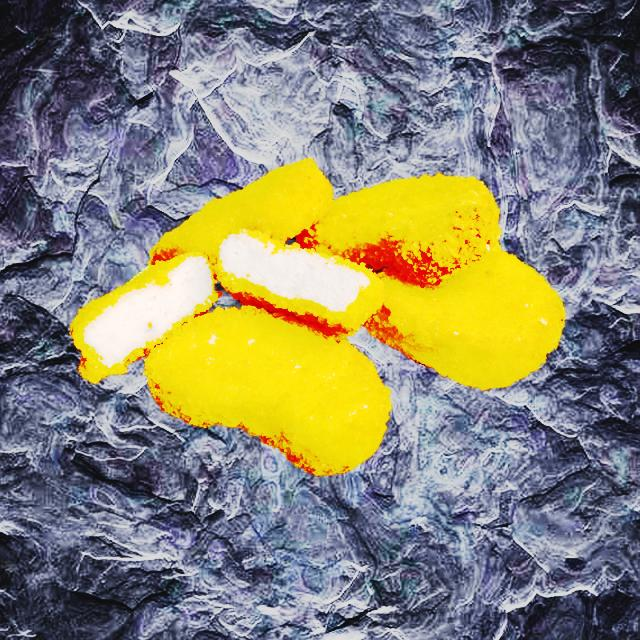chicken_nuggets: (61, 145, 580, 487)
